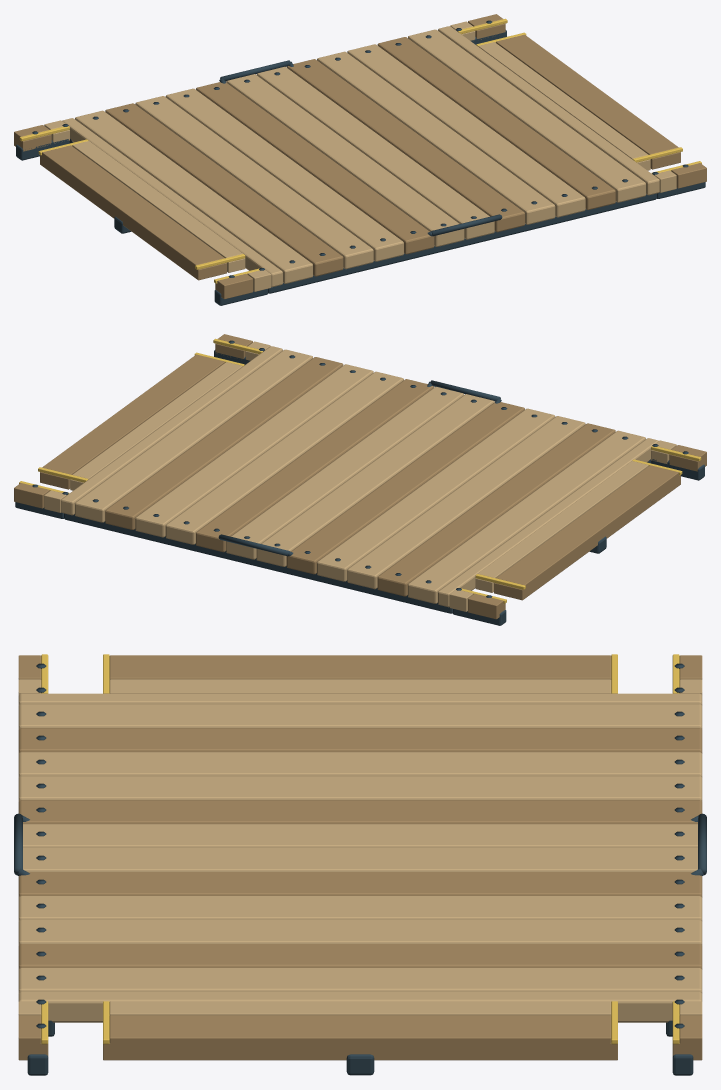
The model's file is deck.glb.
The picture shows the model from 3 angles, top to bottom: view 1: azimuth 30°, elevation 25°; view 2: azimuth 150°, elevation 25°; view 3: azimuth 270°, elevation 25°; orthographic projection. The views are drawn at different scales.
Parts seen in each view (by area): view 1: tyaga-deck-open-surface, deck-interaction-hardware-surface; view 2: tyaga-deck-open-surface, deck-interaction-hardware-surface; view 3: tyaga-deck-open-surface, deck-interaction-hardware-surface.
Boxes of the visible parts, box(x1,y1,x2,y2) form: tyaga-deck-open-surface: box(14, 14, 706, 305); deck-interaction-hardware-surface: box(32, 20, 688, 277); tyaga-deck-open-surface: box(14, 334, 706, 625); deck-interaction-hardware-surface: box(32, 340, 688, 597); tyaga-deck-open-surface: box(18, 654, 702, 1075); deck-interaction-hardware-surface: box(14, 663, 706, 1028).
Size of the model in its own units: 4 by 0.21 by 3.04.
